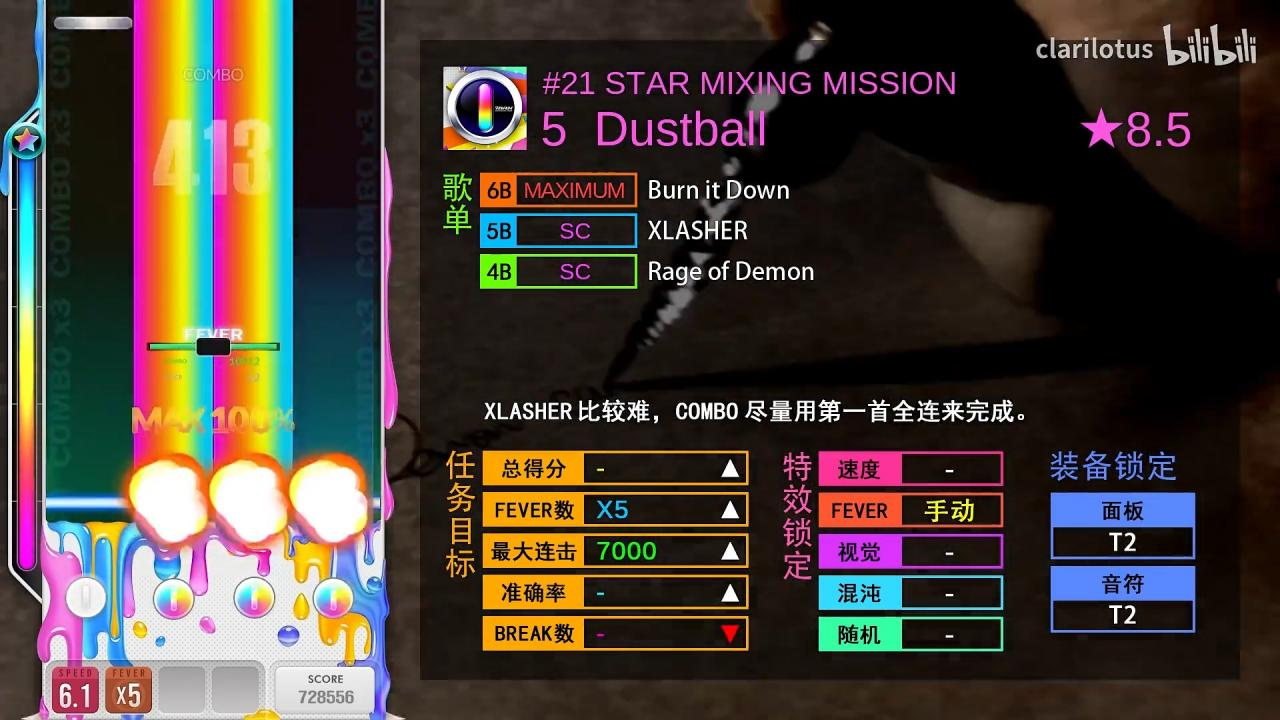note: (54, 16, 132, 31)
